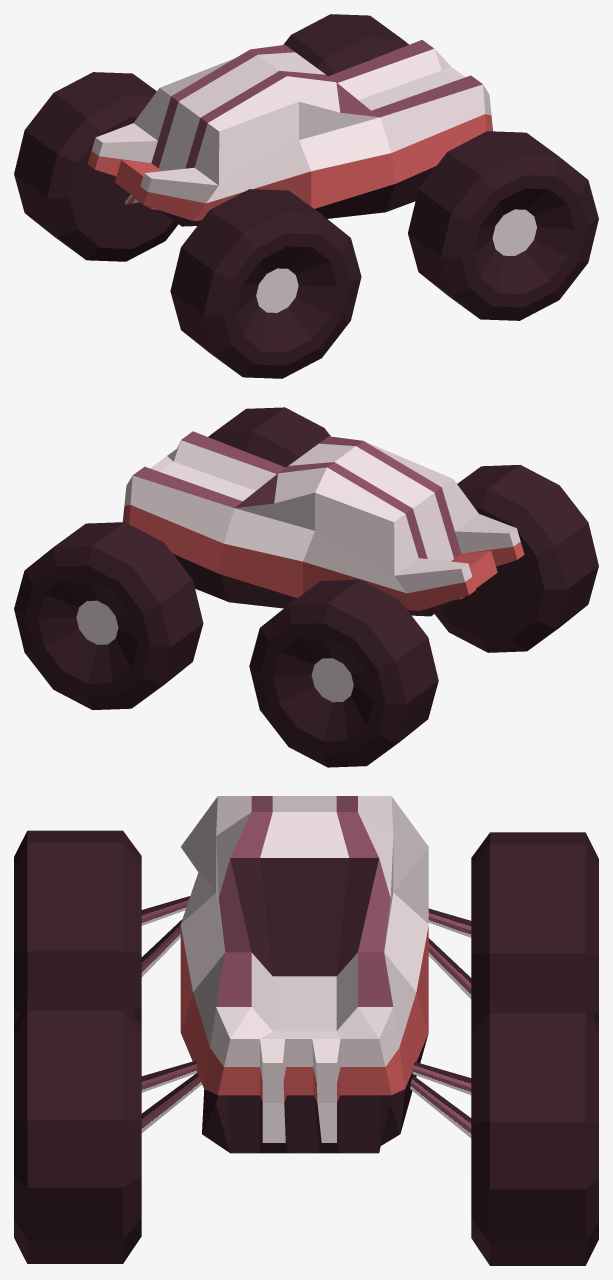
File: car.glb
The picture shows the model from 3 angles, top to bottom: view 1: azimuth 30°, elevation 25°; view 2: azimuth 150°, elevation 25°; view 3: azimuth 270°, elevation 25°; orthographic projection. The views are drawn at different scales.
Visible parts, largest first — view 1: Cube.021; view 2: Cube.021; view 3: Cube.021.
Boxes of the visible parts, box(x1,y1,x2,y2) form: Cube.021: box(14, 14, 598, 378); Cube.021: box(14, 407, 598, 767); Cube.021: box(14, 796, 598, 1265).
Bounding box in the file's own units: 7.55 × 4.1 × 6.6.
Materials: 1 (1 with a texture image).
